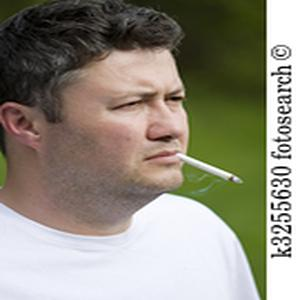cigarette: (174, 152, 246, 186)
